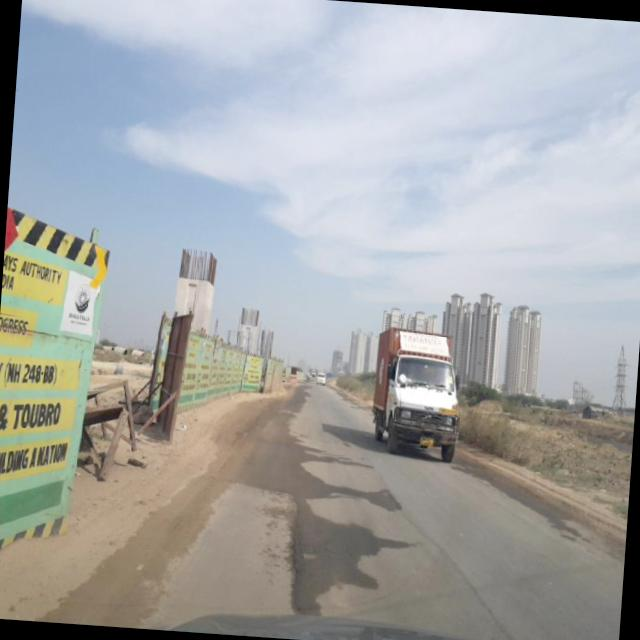pothole: (358, 452, 519, 632), (279, 484, 321, 614)
